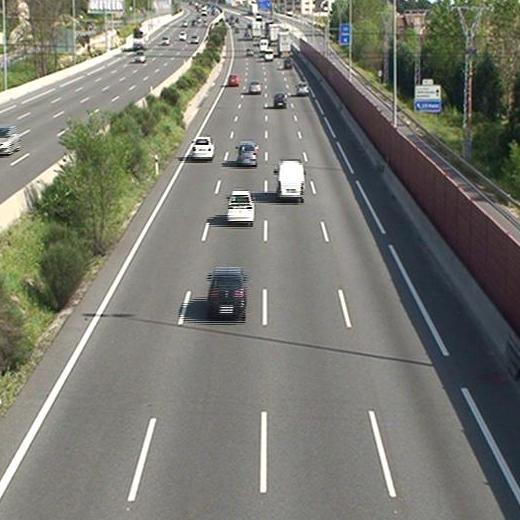car: (206, 269, 247, 317), (227, 191, 254, 222), (236, 142, 257, 166), (192, 137, 215, 158), (274, 92, 287, 109), (296, 82, 309, 95), (250, 80, 261, 95), (229, 74, 239, 85), (283, 58, 292, 68)
van: (275, 161, 305, 200)
